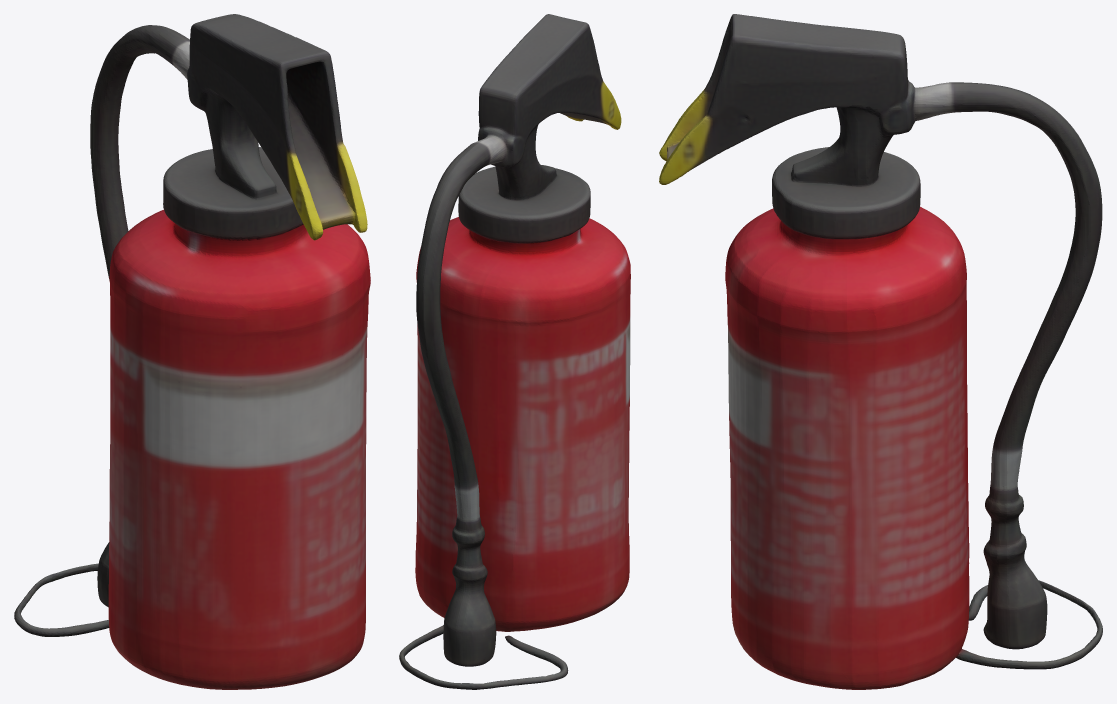
Rendered from multidiffusion_sam3d.glb.
3 renders of one model, left to right at view 1: azimuth 30°, elevation 25°; view 2: azimuth 150°, elevation 25°; view 3: azimuth 270°, elevation 25°, orthographic. The views are drawn at different scales.
Parts seen in each view (by area): view 1: world; view 2: world; view 3: world.
Boxes of the visible parts, <box> form: world: <box>14,14,370,689</box>; world: <box>399,14,630,689</box>; world: <box>659,14,1102,689</box>.
Size of the model in its own units: 0.4014 by 0.9993 by 0.6395.
